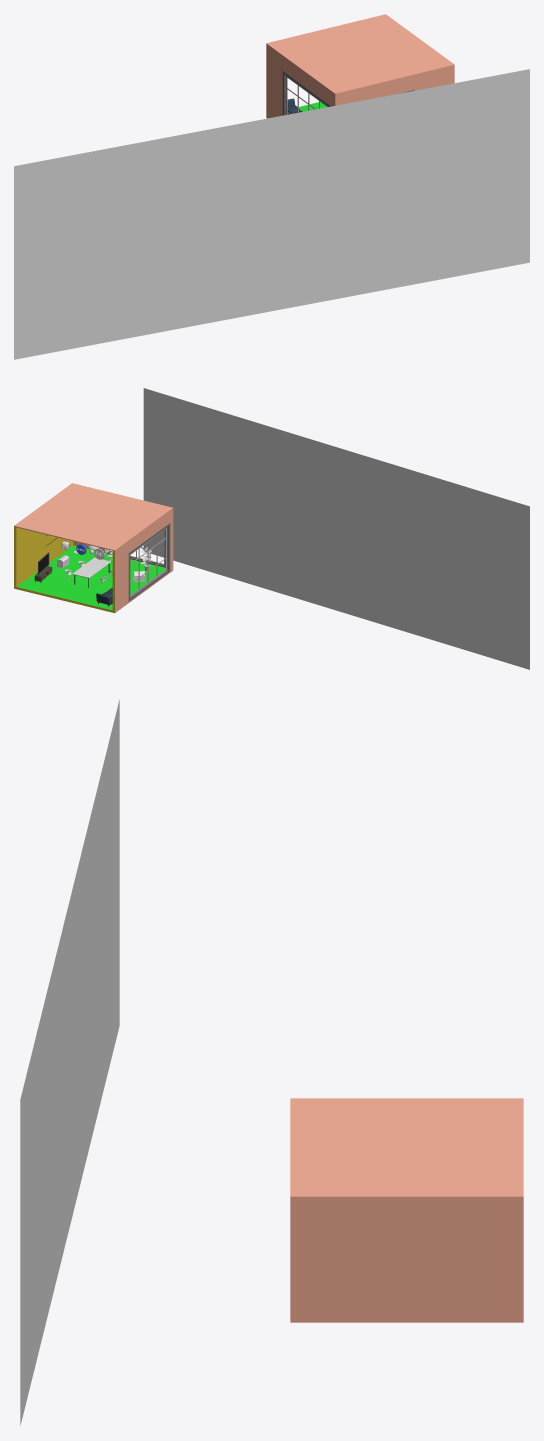
The model's file is enterijer2.glb.
The picture shows the model from 3 angles, top to bottom: view 1: azimuth 30°, elevation 25°; view 2: azimuth 150°, elevation 25°; view 3: azimuth 270°, elevation 25°; orthographic projection. The views are drawn at different scales.
Visible parts, largest first — view 1: Plane, kuca; view 2: Plane, kuca, podOkvir, okvir.001, ploca; view 3: kuca, Plane.
Part boxes in pixels (left/top/right/bottom): Plane: left=14, top=69, right=529, bottom=359; kuca: left=266, top=14, right=454, bottom=118; Plane: left=143, top=388, right=529, bottom=669; kuca: left=14, top=483, right=173, bottom=613; podOkvir: left=108, top=527, right=167, bottom=597; okvir.001: left=105, top=523, right=169, bottom=601; ploca: left=72, top=557, right=110, bottom=578; kuca: left=290, top=1098, right=523, bottom=1322; Plane: left=20, top=699, right=119, bottom=1425.
Size of the model in its own units: 34.53 by 13 by 18.13.
